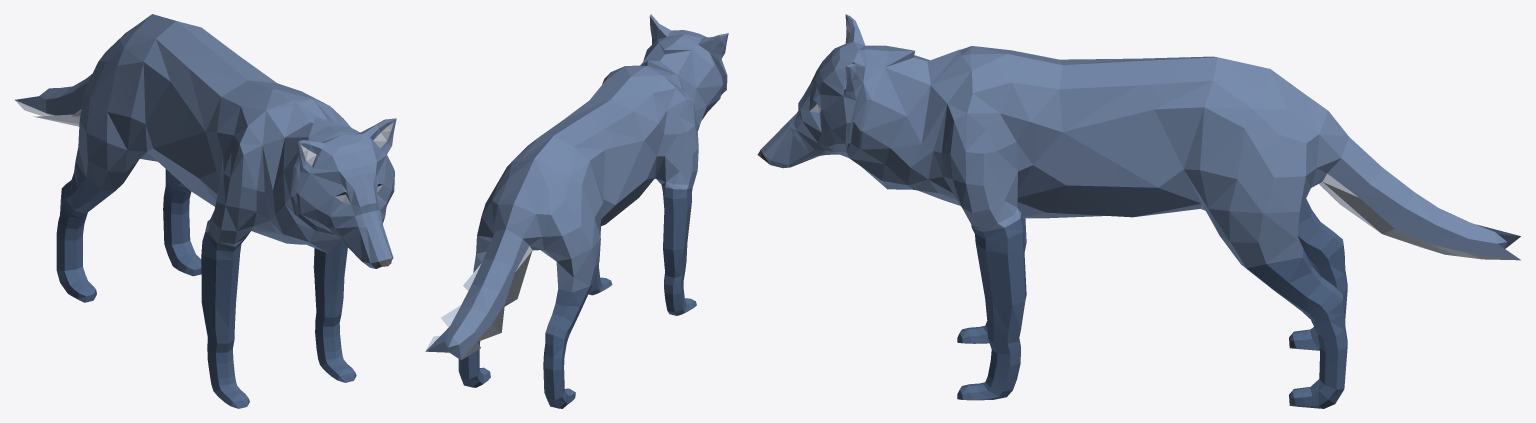
File: WolfSpirit_Still.fbx
The picture shows the model from 3 angles, left to right: view 1: azimuth 30°, elevation 25°; view 2: azimuth 150°, elevation 25°; view 3: azimuth 270°, elevation 25°; orthographic projection. The views are drawn at different scales.
Visible parts, largest first — view 1: WolfFinal; view 2: WolfFinal; view 3: WolfFinal.
Part boxes in pixels (<box>): WolfFinal: <box>15,14,396,408</box>; WolfFinal: <box>425,14,728,408</box>; WolfFinal: <box>757,14,1520,408</box>.
Bounding box in the file's own units: 0.9983 × 2.06 × 4.23.
